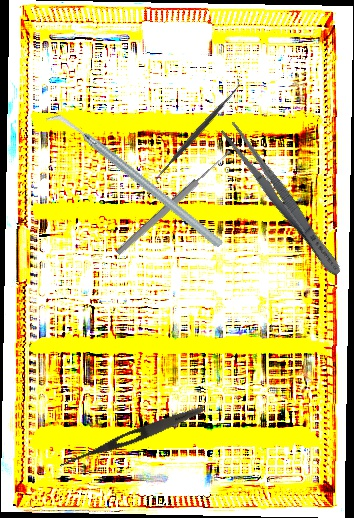Chopper: (44, 70, 224, 291)
Dressing Forceps: (217, 119, 348, 281), (58, 402, 206, 473)
Spatula Surgical: (148, 77, 248, 186)
Surgical Spoon: (114, 148, 234, 257)
